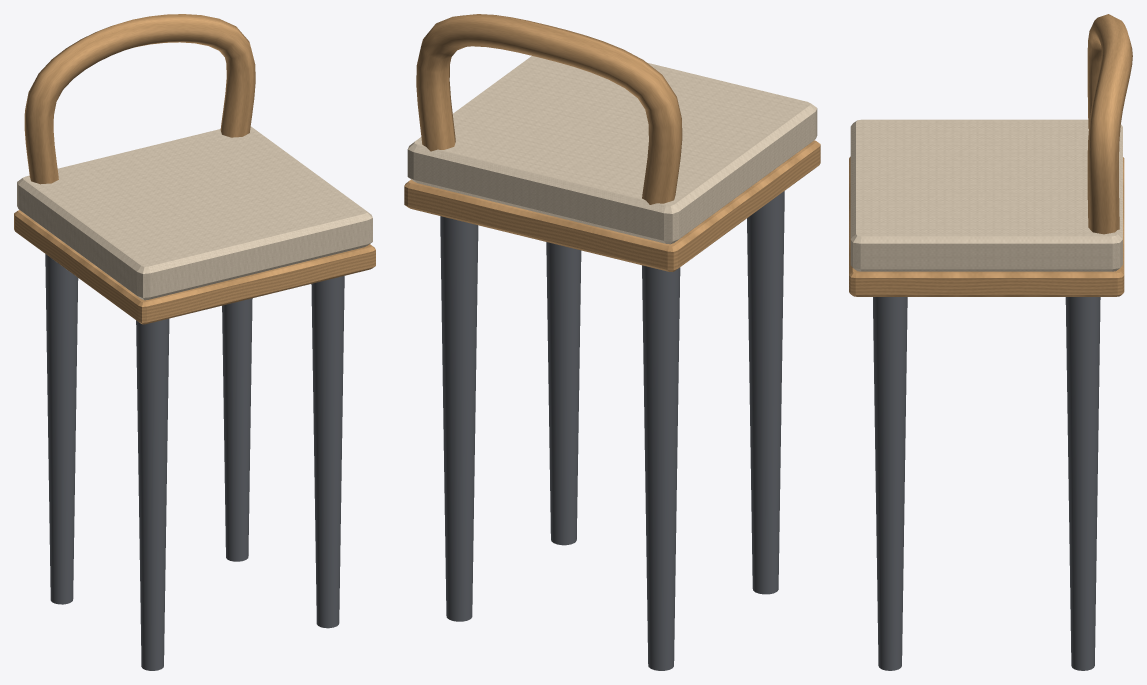
The model's file is bar_stool_oak.glb.
3 renders of one model, left to right at view 1: azimuth 30°, elevation 25°; view 2: azimuth 150°, elevation 25°; view 3: azimuth 270°, elevation 25°, orthographic. The views are drawn at different scales.
Parts seen in each view (by area): view 1: bar_stool_oak_fabricLinen, bar_stool_oak_metalBlack, bar_stool_oak_woodOak; view 2: bar_stool_oak_metalBlack, bar_stool_oak_fabricLinen, bar_stool_oak_woodOak; view 3: bar_stool_oak_fabricLinen, bar_stool_oak_metalBlack, bar_stool_oak_woodOak.
Part boxes in pixels (x1=…): bar_stool_oak_fabricLinen: x1=17, y1=126, x2=372, y2=300; bar_stool_oak_metalBlack: x1=45, y1=254, x2=344, y2=670; bar_stool_oak_woodOak: x1=14, y1=14, x2=375, y2=324; bar_stool_oak_metalBlack: x1=440, y1=191, x2=784, y2=670; bar_stool_oak_fabricLinen: x1=407, y1=56, x2=817, y2=244; bar_stool_oak_woodOak: x1=404, y1=14, x2=820, y2=271; bar_stool_oak_fabricLinen: x1=850, y1=119, x2=1122, y2=271; bar_stool_oak_metalBlack: x1=873, y1=297, x2=1100, y2=670; bar_stool_oak_woodOak: x1=849, y1=14, x2=1132, y2=296.
Size of what is drawn, in the model's own units: 0.44 by 0.97 by 0.43.
Materials: 3 (2 with a texture image).
